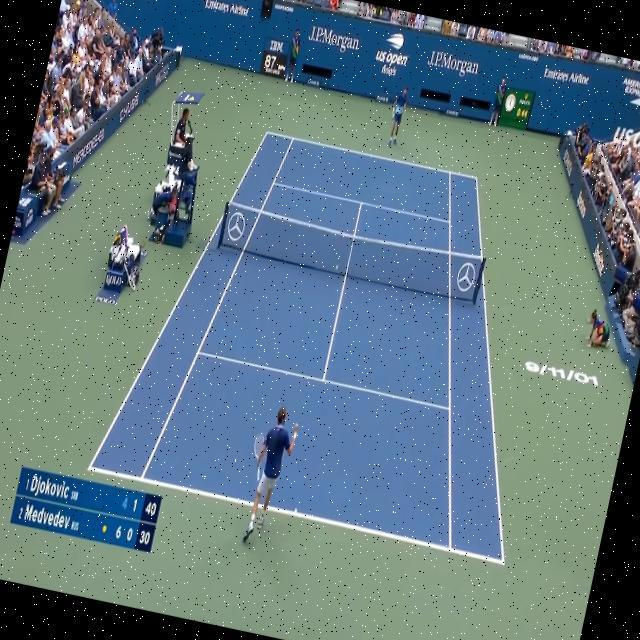Emirates: (543, 66, 570, 83), (203, 0, 230, 14)
